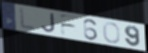6: (83, 18, 99, 42)
9: (124, 25, 142, 48)
F: (58, 13, 80, 37)
J: (41, 13, 57, 34)
L: (19, 6, 36, 32)
O: (102, 21, 122, 44)
